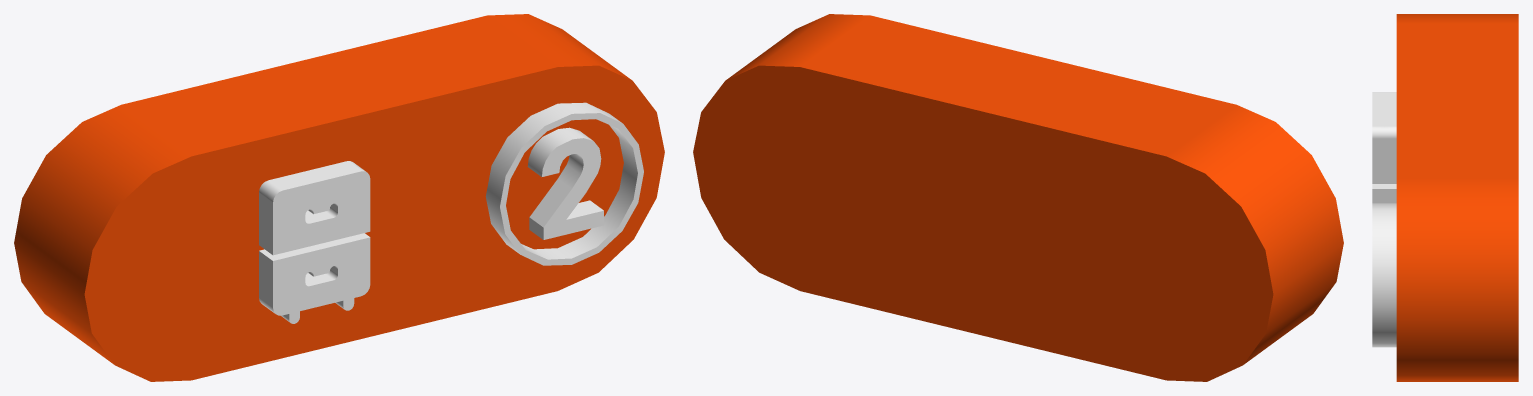
Rendered from Storage_2.fbx.
The picture shows the model from 3 angles, left to right: view 1: azimuth 30°, elevation 25°; view 2: azimuth 150°, elevation 25°; view 3: azimuth 270°, elevation 25°; orthographic projection. The views are drawn at different scales.
Visible parts, largest first — view 1: Orange, Object_6, Object_5, Object_4, Object_8; view 2: Orange; view 3: Orange, Object_6, Object_5, Object_4.
Boxes of the visible parts, left/top/right/bottom form: Orange: left=14, top=14, right=664, bottom=381; Object_6: left=485, top=102, right=643, bottom=265; Object_5: left=259, top=161, right=370, bottom=255; Object_4: left=259, top=233, right=370, bottom=315; Object_8: left=527, top=127, right=603, bottom=239; Orange: left=693, top=14, right=1343, bottom=381; Orange: left=1396, top=14, right=1518, bottom=381; Object_6: left=1372, top=203, right=1396, bottom=347; Object_5: left=1372, top=92, right=1396, bottom=183; Object_4: left=1372, top=184, right=1396, bottom=203.
Bounding box in the file's own units: 4.75 × 1.2 × 1.75.
